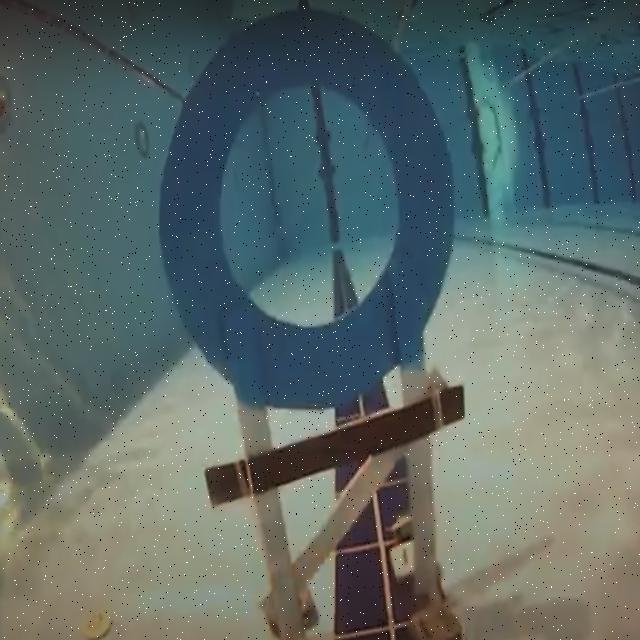Circle: (155, 7, 459, 407)
